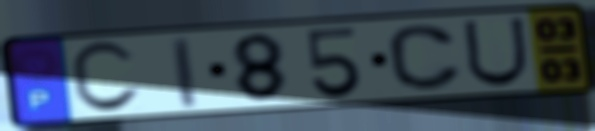5: (302, 24, 363, 100)
8: (228, 31, 291, 105)
C: (66, 38, 145, 117), (384, 22, 467, 93)
I: (167, 34, 201, 110)
U: (459, 15, 531, 89)
